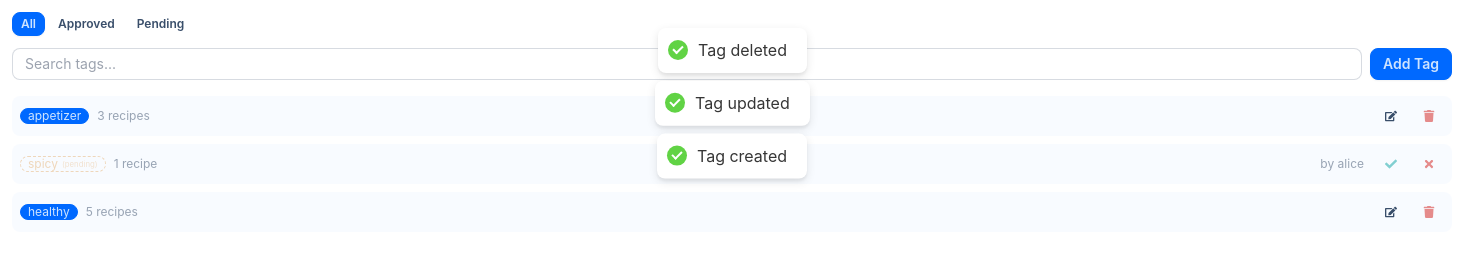
Test: CommunityTagsList › should approve a pending tag
Expected: the text "spicy" is shown, [28,156,58,171]
Click the button titled "Approve" at (1391, 164), box [1376,152,1406,176]
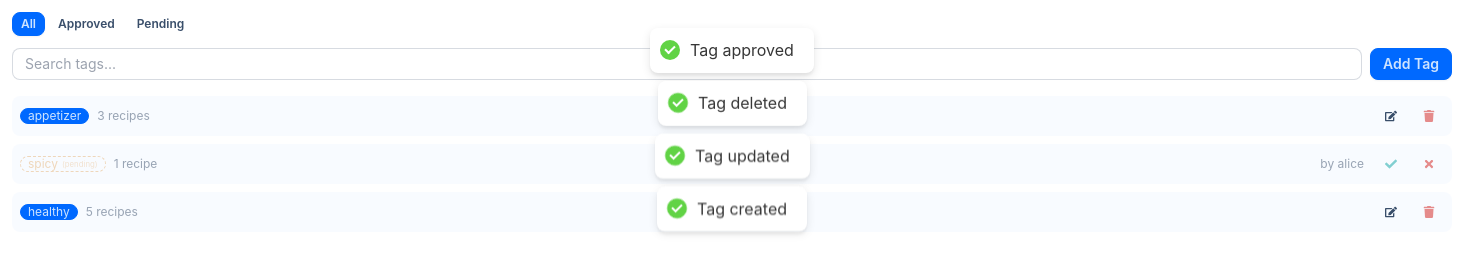
Now the text "Tag approved" is shown, box [690,40,794,61]
